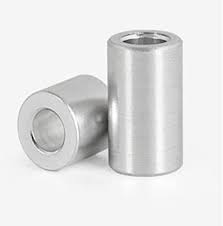No thread: (28, 103, 75, 157)
Thread: (115, 26, 176, 58)
